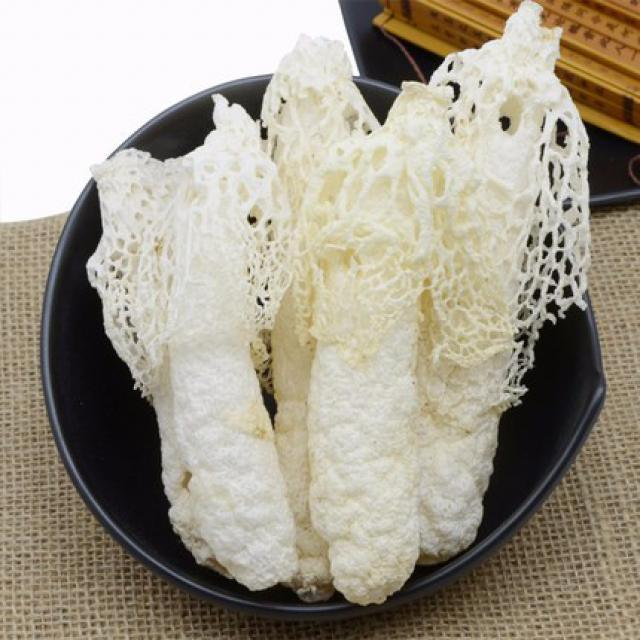Dictyophora indusiate: (87, 90, 297, 592), (425, 3, 593, 559), (289, 86, 443, 598), (259, 33, 356, 600)
